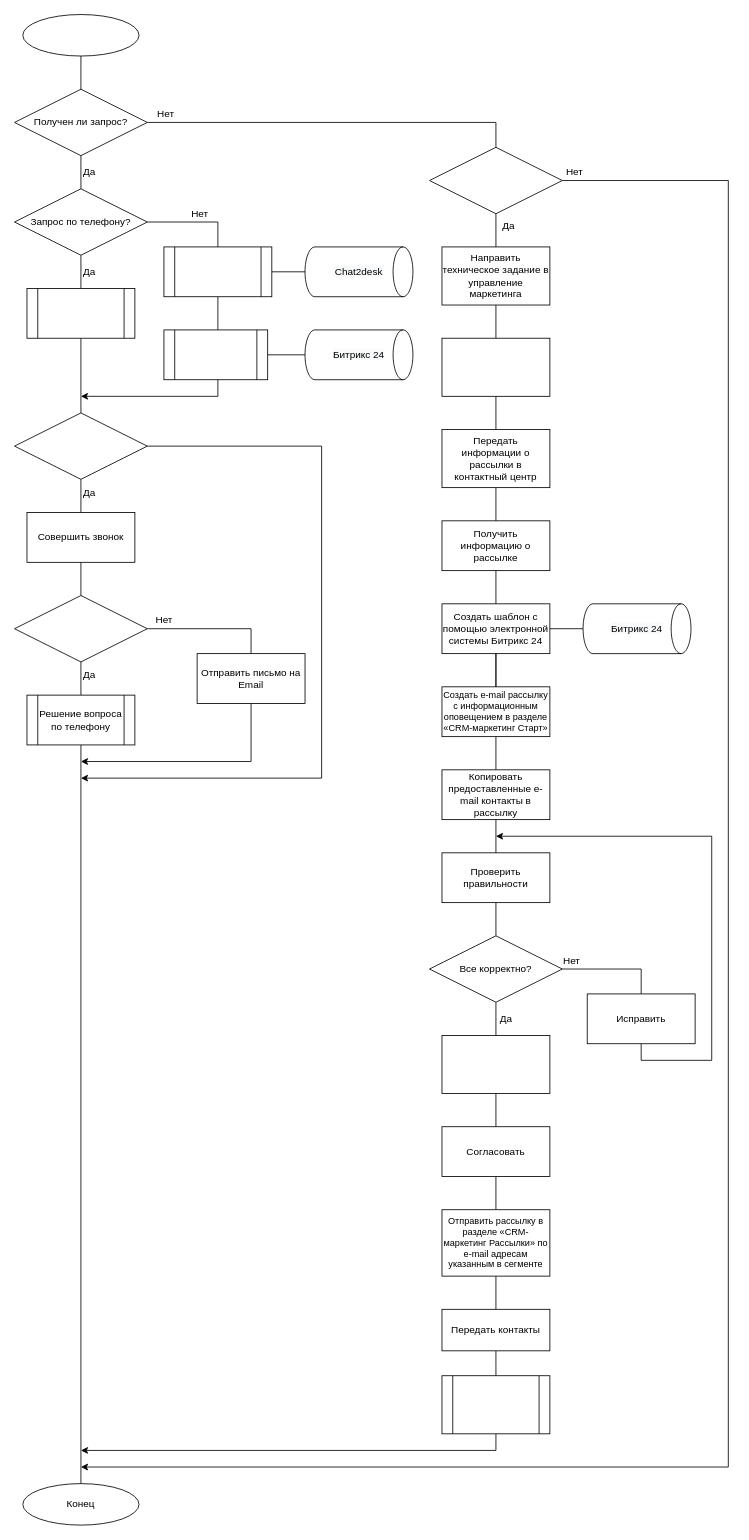
Some shapes in this 749 by 1540 pixel diagram are drawn without their labels. Each missing label, with the box of its shape:
Вопрос решить по телефону: (26, 288, 135, 338)
На звонок получен ответ?: (14, 595, 147, 662)
Начало: (22, 14, 139, 56)
Передать обращение в систему Chat2desk: (163, 246, 272, 297)
Проверить технического задания начальником управления маркетинга: (441, 337, 550, 396)
Сохранить и отправить на согласование начальнику управления маркетинга: (441, 1035, 550, 1094)
Сформировать базы привлеченных абитуриентов: (441, 1375, 550, 1434)
Сформировать чат в системе Битрикс 24: (163, 329, 268, 380)
Требуется ли обратная связь?: (14, 412, 147, 479)
Требуется ли рассылка?: (429, 146, 562, 214)
